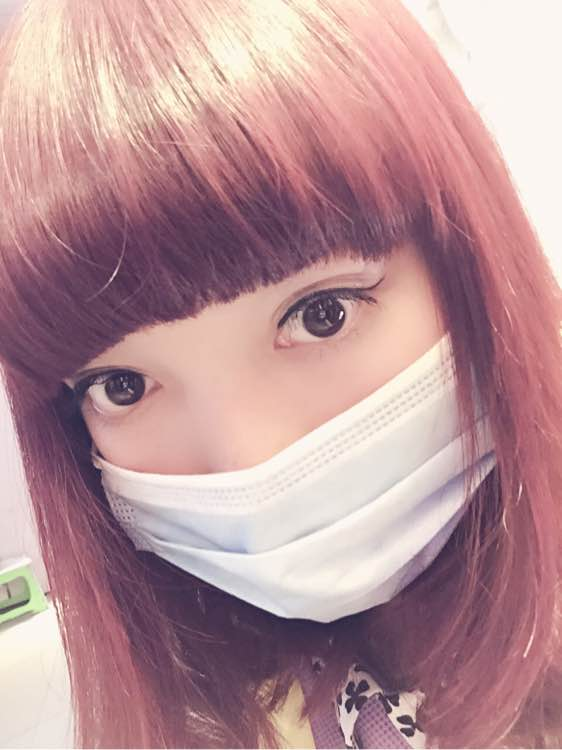face_mask: (75, 126, 466, 619)
